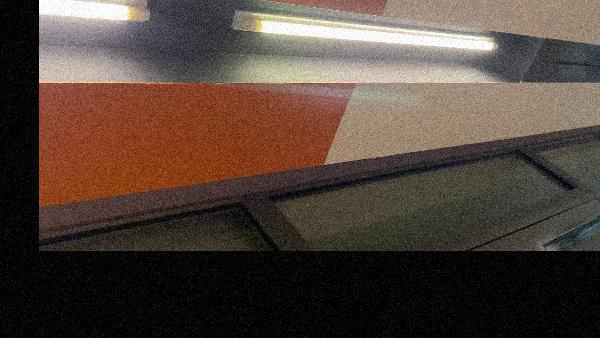light_on: (223, 4, 512, 63), (41, 0, 159, 37)
